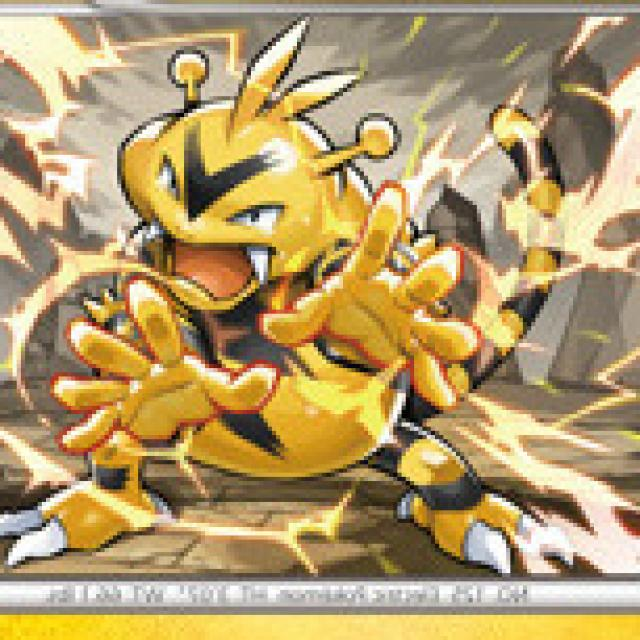Electabuzz: (47, 80, 484, 559)
